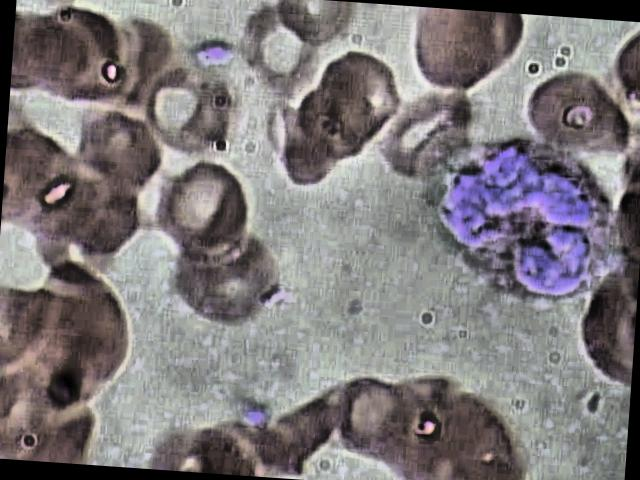Platelets: (189, 30, 237, 70), (230, 394, 278, 434)
RBC: (25, 256, 143, 385), (301, 40, 403, 174), (159, 229, 291, 332), (137, 64, 250, 176), (521, 60, 639, 167), (156, 155, 268, 266), (400, 6, 530, 101), (62, 106, 172, 212), (45, 169, 155, 275), (27, 5, 136, 110), (257, 89, 354, 201), (380, 82, 483, 186), (237, 0, 327, 104), (0, 130, 83, 231), (322, 374, 411, 466), (272, 0, 357, 51)
WBC: (408, 128, 640, 315)
